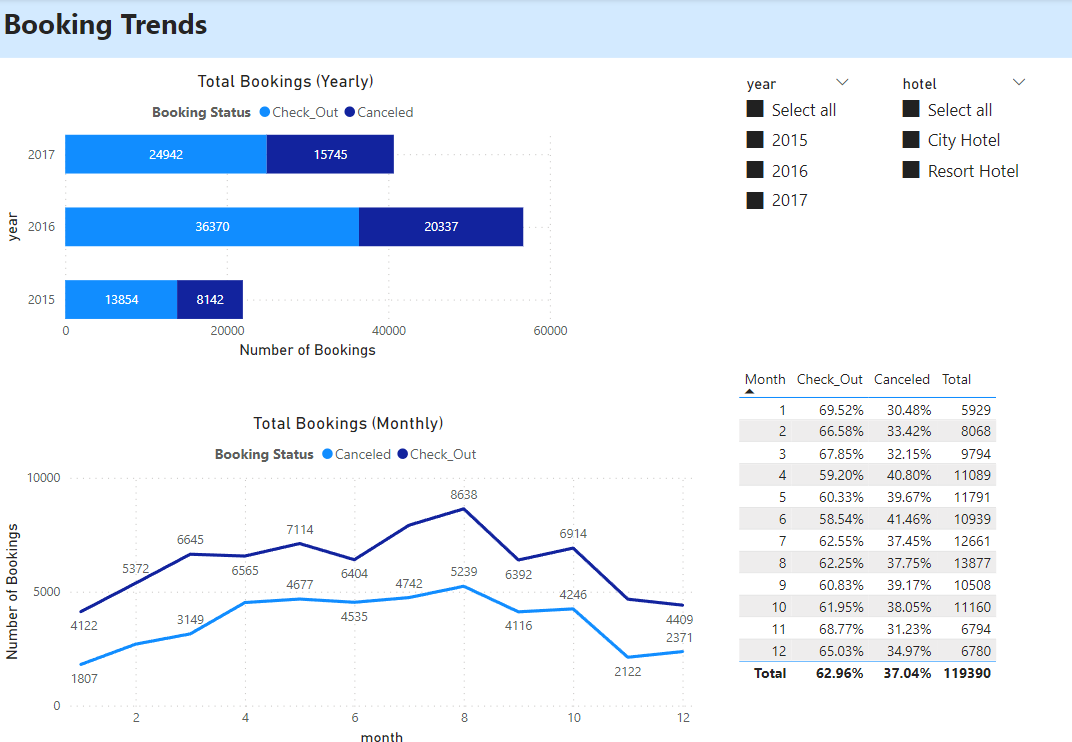

Layout of this report page (visuals, bound fields, positions):
{"tool":"powerbi","page":{"name":"Booking Trends","canvas":[1280,720],"ordinal":1},"visuals":[{"type":"barChart","title":"Total Bookings (Yearly)","fields":{"Category":["hotel.year"],"Y":["hotel.Check_Out","hotel.Canceled"]},"box":[0,68.8,550,280],"z":0},{"type":"lineChart","title":"Total Bookings (Monthly)","fields":{"Category":["hotel.month"],"Y":["hotel.Canceled","hotel.Check_Out"]},"box":[0,396.2,670,323.8],"z":1000},{"type":"slicer","fields":{"Values":["hotel.year"]},"box":[703.3,68.3,123.3,155],"z":2000},{"type":"textbox","box":[0,0,1280,57.5],"z":3000},{"type":"tableEx","fields":{"Values":["hotel.month","Table1.%check_out","Table1.%canceled","hotel.total"]},"box":[741.7,360,333.3,321.7],"z":4000},{"type":"slicer","fields":{"Values":["hotel.hotel"]},"box":[853.3,68.3,143.3,126.7],"z":5000}]}

Visuals, with their boxes on the page's 1280x720 design canvas (x1, y1, x2, y2). These are canvas units, not pixel positions in the 1072x742 screenshot, which may show the page scaled, cropped or inside an application window:
"Total Bookings (Yearly)" barChart: 0:69:550:349
"Total Bookings (Monthly)" lineChart: 0:396:670:720
slicer - hotel.year: 703:68:827:223
textbox: 0:0:1280:58
tableEx - hotel.month x Table1.%check_out: 742:360:1075:682
slicer - hotel.hotel: 853:68:997:195
